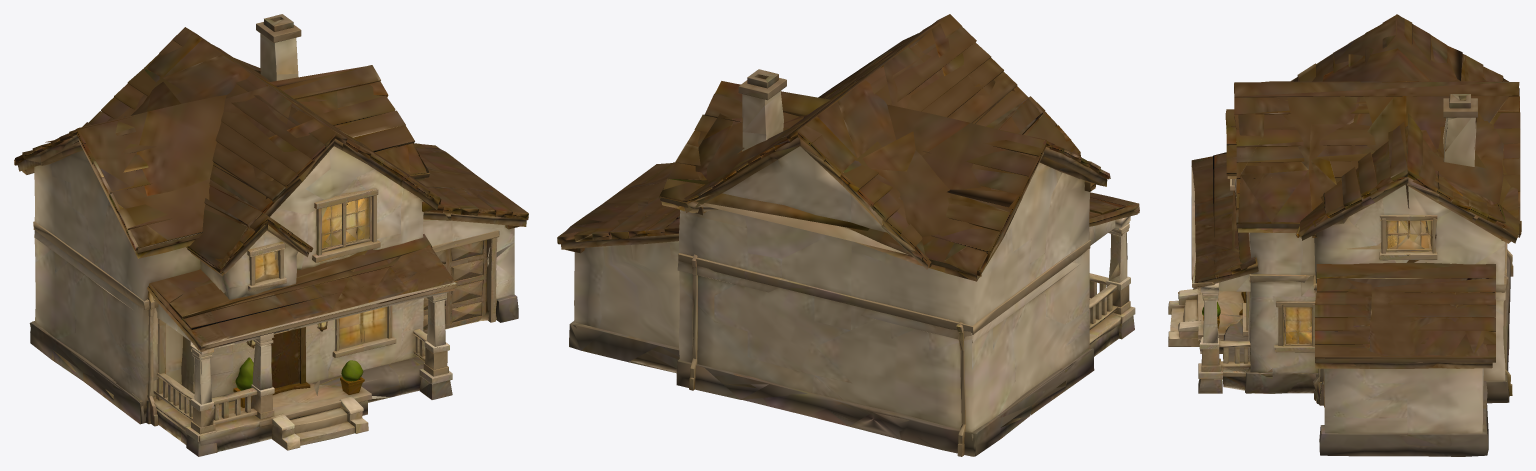
File: house_beige.glb
3 views of the same model, side by side, from view 1: azimuth 30°, elevation 25°; view 2: azimuth 150°, elevation 25°; view 3: azimuth 270°, elevation 25° (orthographic). The views are drawn at different scales.
Parts seen in each view (by area): view 1: geometry_0; view 2: geometry_0; view 3: geometry_0.
Boxes of the visible parts, box(x1,y1,x2,y2) form: geometry_0: box(14, 14, 528, 456); geometry_0: box(557, 14, 1139, 456); geometry_0: box(1168, 14, 1521, 456).
Bounding box in the file's own units: 0.9521 × 0.6367 × 0.7329.
Materials: 1 (1 with a texture image).
